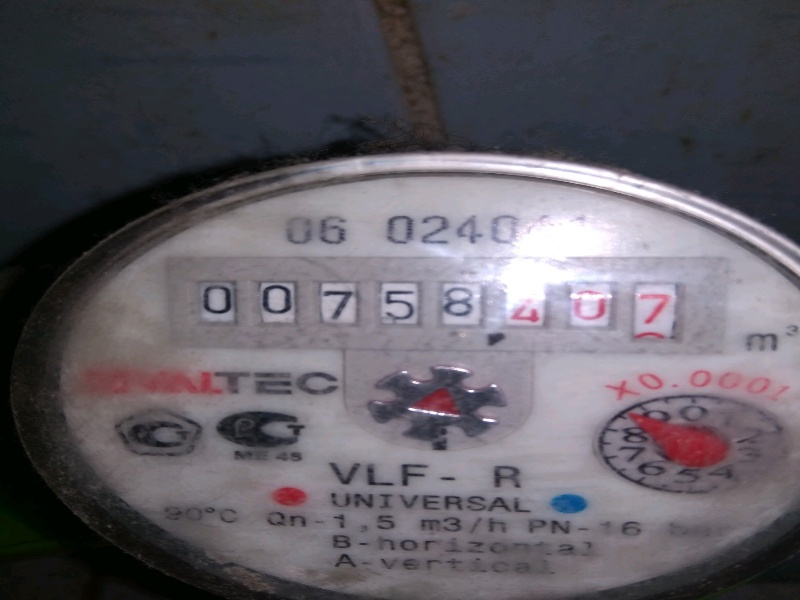meter: (185, 267, 697, 348)
